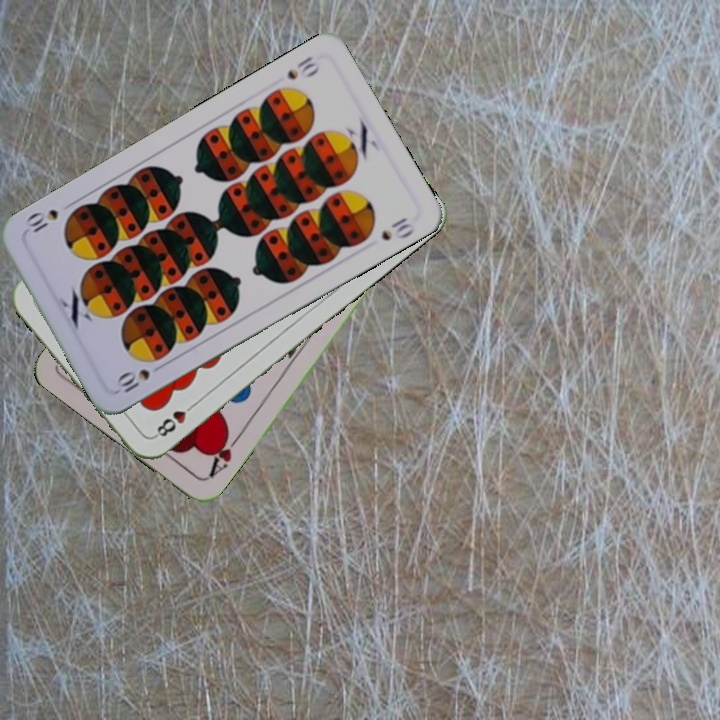H8: (150, 398, 199, 441)
HA: (204, 427, 244, 481)
S10: (112, 359, 168, 398), (282, 52, 322, 83)
